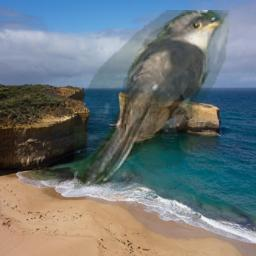Cuckoo: (74, 10, 229, 191)
